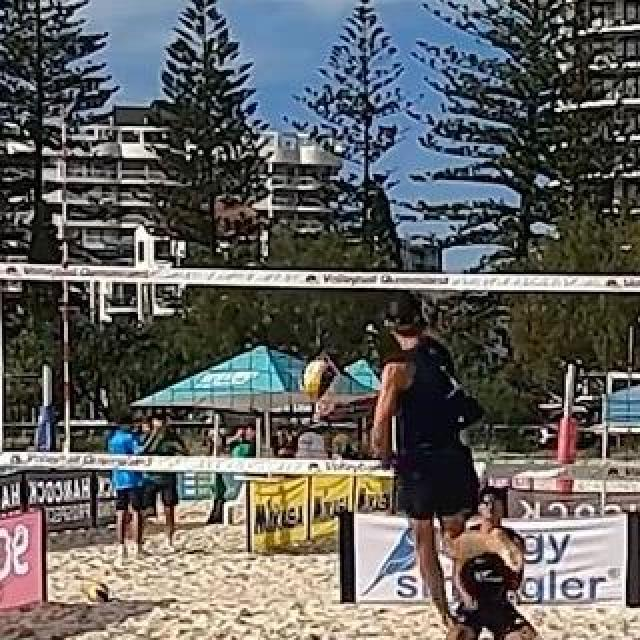volleyball: (301, 359, 339, 399), (89, 584, 111, 604)
